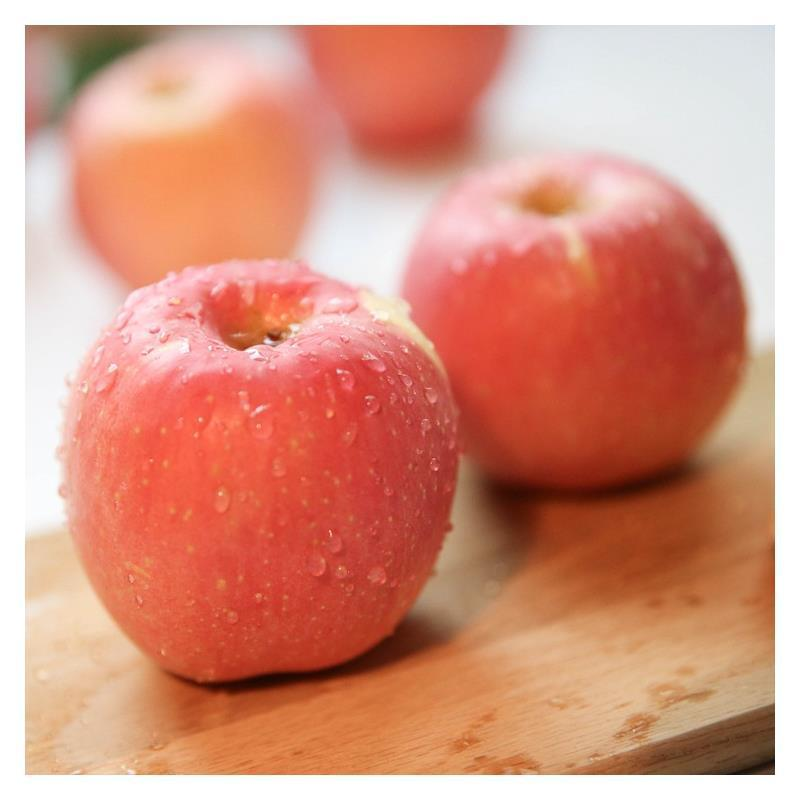apple: (62, 262, 471, 687), (397, 149, 754, 496)
